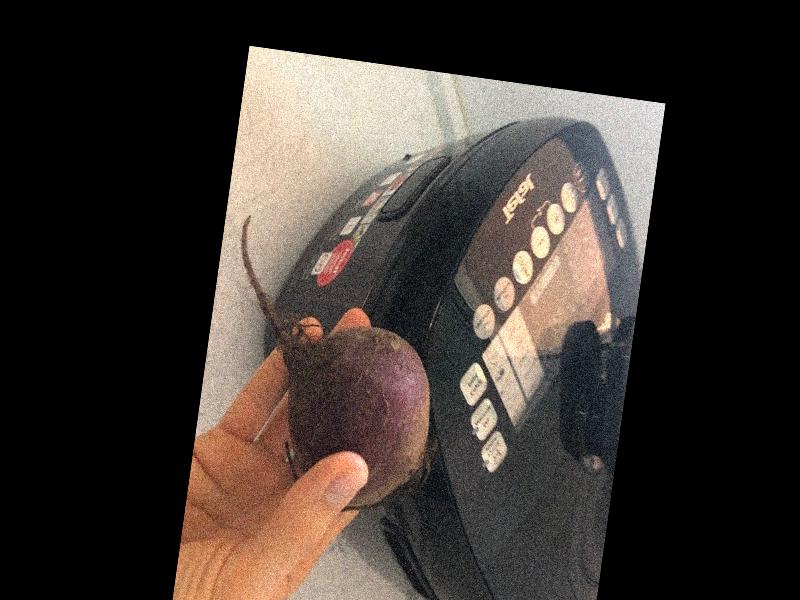Beet: (207, 216, 463, 520)
